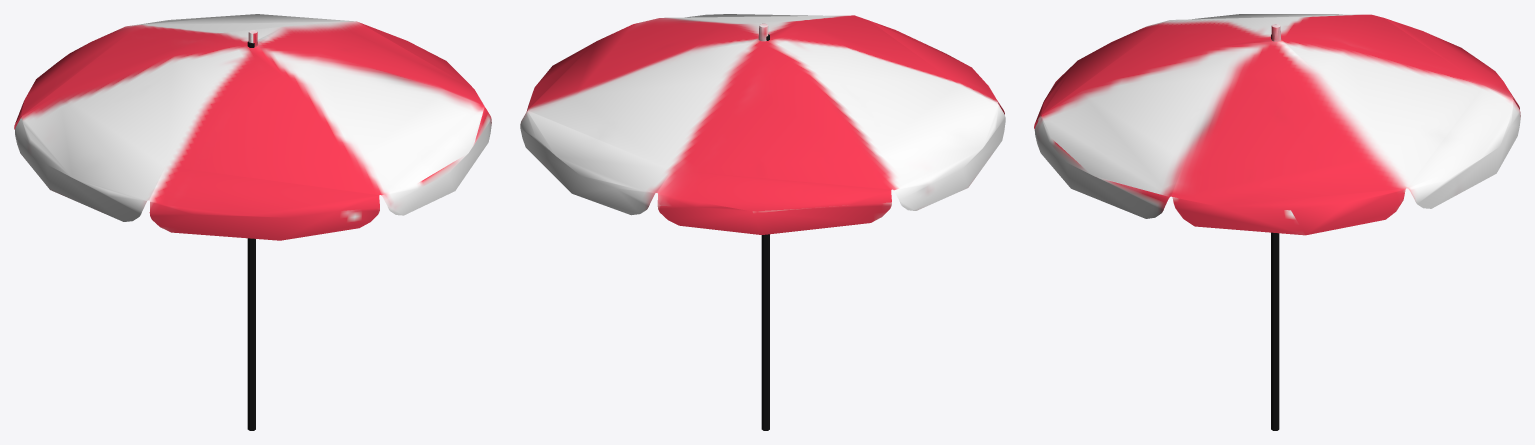
The model's file is umbrella.gltf.
The picture shows the model from 3 angles, left to right: view 1: azimuth 30°, elevation 25°; view 2: azimuth 150°, elevation 25°; view 3: azimuth 270°, elevation 25°; orthographic projection.
Visible parts, largest first — view 1: umbrellaTop, umbrellaLeg; view 2: umbrellaTop, umbrellaLeg; view 3: umbrellaTop, umbrellaLeg.
Part boxes in pixels (bbox=[...]): umbrellaTop: bbox=[14, 14, 491, 240]; umbrellaLeg: bbox=[247, 41, 255, 430]; umbrellaTop: bbox=[520, 14, 1005, 234]; umbrellaLeg: bbox=[761, 34, 769, 430]; umbrellaTop: bbox=[1034, 14, 1520, 235]; umbrellaLeg: bbox=[1271, 34, 1279, 430].
Size of the model in its own units: 10.92 by 10.26 by 11.19.
2 materials, 1 textured.
